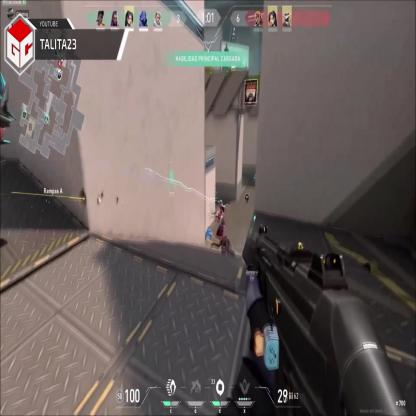enemy: (215, 204, 225, 245)
enemy_head: (219, 204, 223, 214)
